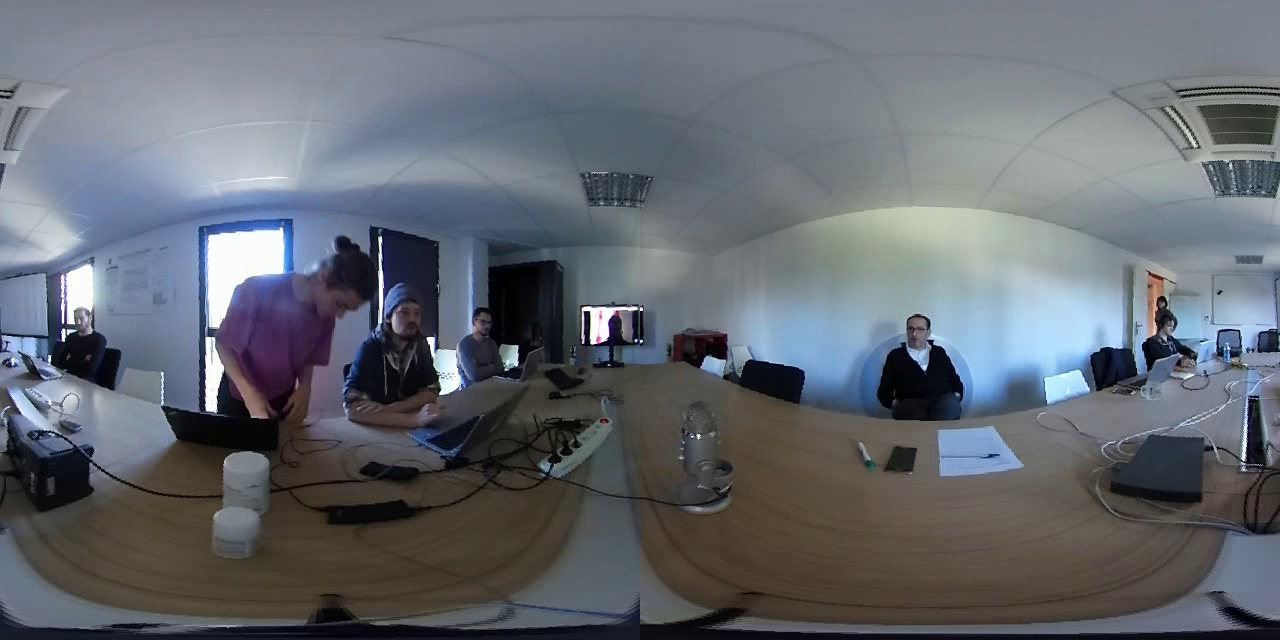person: (217, 219, 370, 438), (877, 301, 967, 412), (370, 270, 446, 398), (458, 294, 523, 386), (55, 295, 111, 385), (1146, 312, 1195, 359), (585, 304, 632, 335), (1144, 286, 1177, 324)
